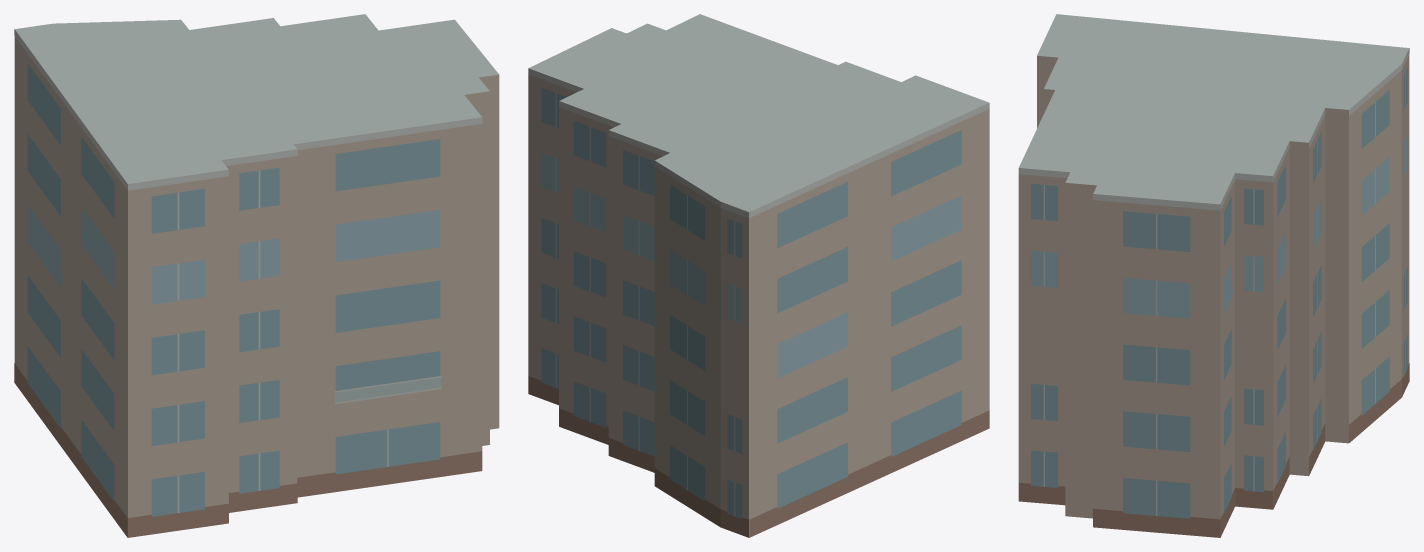
The model's file is survey-upis-32739815.glb.
3 views of the same model, side by side, from view 1: azimuth 30°, elevation 25°; view 2: azimuth 150°, elevation 25°; view 3: azimuth 270°, elevation 25° (orthographic). The views are drawn at different scales.
Visible parts, largest first — view 1: survey-upis-32739815.tmp; view 2: survey-upis-32739815.tmp; view 3: survey-upis-32739815.tmp.
Part boxes in pixels (x1,y1,x2,y2): survey-upis-32739815.tmp: (14, 14, 499, 537); survey-upis-32739815.tmp: (528, 14, 989, 537); survey-upis-32739815.tmp: (1018, 14, 1409, 537).
Size of the model in its own units: 16.06 by 13.1 by 13.92.
